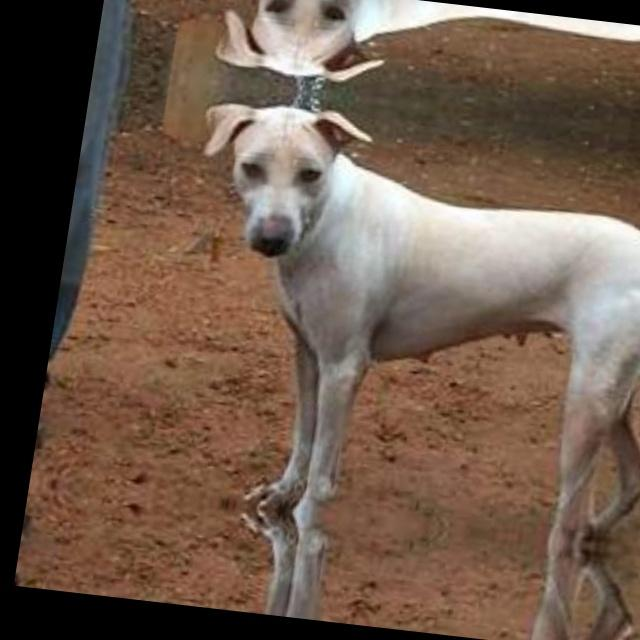dog: (138, 89, 640, 554), (121, 494, 640, 640), (202, 0, 640, 130)
